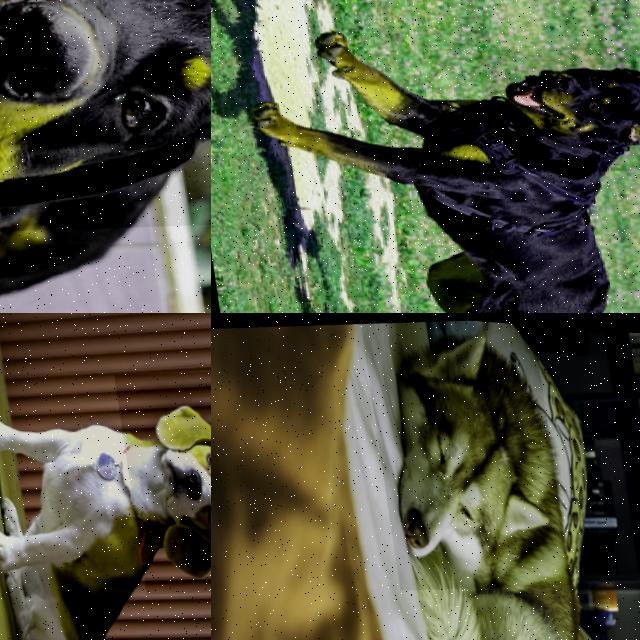beagle: (111, 353, 211, 593)
husky: (360, 313, 569, 594)
rottweiler: (0, 0, 211, 273), (472, 21, 640, 181)
